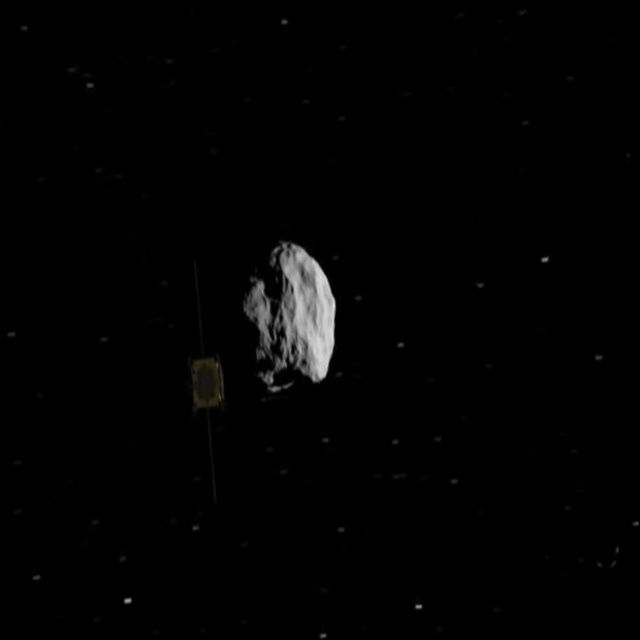satellite: (179, 347, 229, 423)
